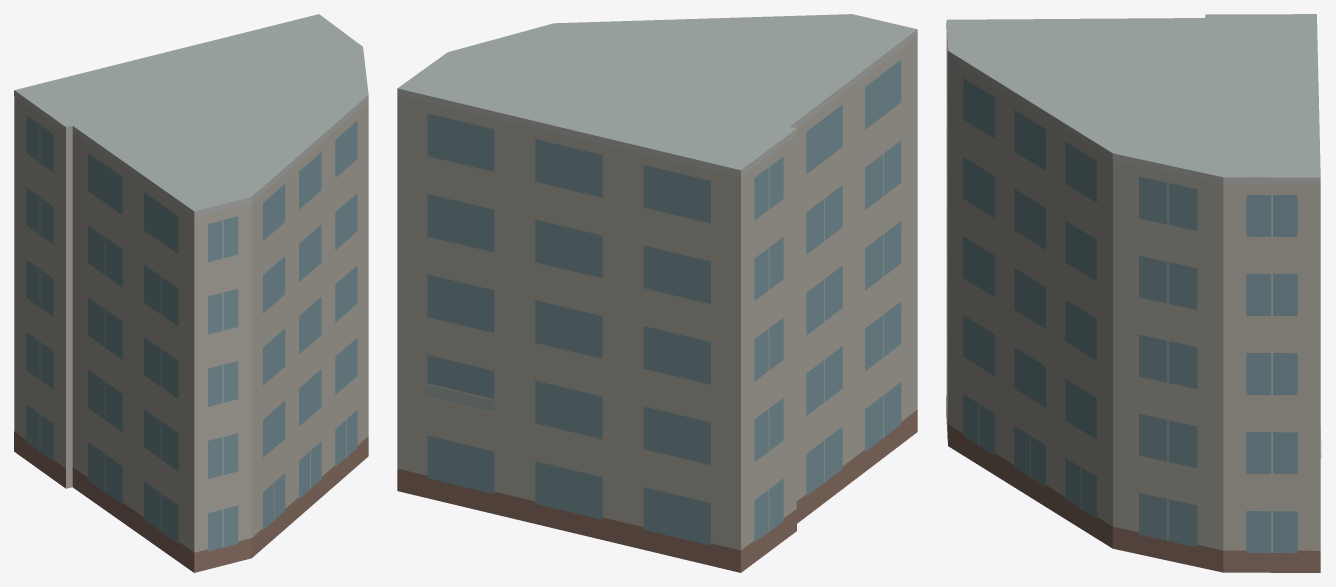
The model's file is survey-upis-32843640.glb.
3 renders of one model, left to right at view 1: azimuth 30°, elevation 25°; view 2: azimuth 150°, elevation 25°; view 3: azimuth 270°, elevation 25°, orthographic. The views are drawn at different scales.
Visible parts, largest first — view 1: survey-upis-32843640.tmp; view 2: survey-upis-32843640.tmp; view 3: survey-upis-32843640.tmp.
Boxes of the visible parts, left/top/right/bottom form: survey-upis-32843640.tmp: left=14, top=14, right=368, bottom=572; survey-upis-32843640.tmp: left=397, top=14, right=917, bottom=572; survey-upis-32843640.tmp: left=946, top=14, right=1321, bottom=572.
Size of the model in its own units: 12.88 by 14.5 by 12.48.
